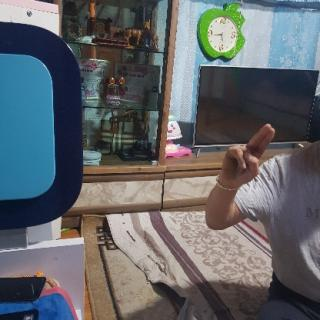TA: (217, 119, 279, 190)
